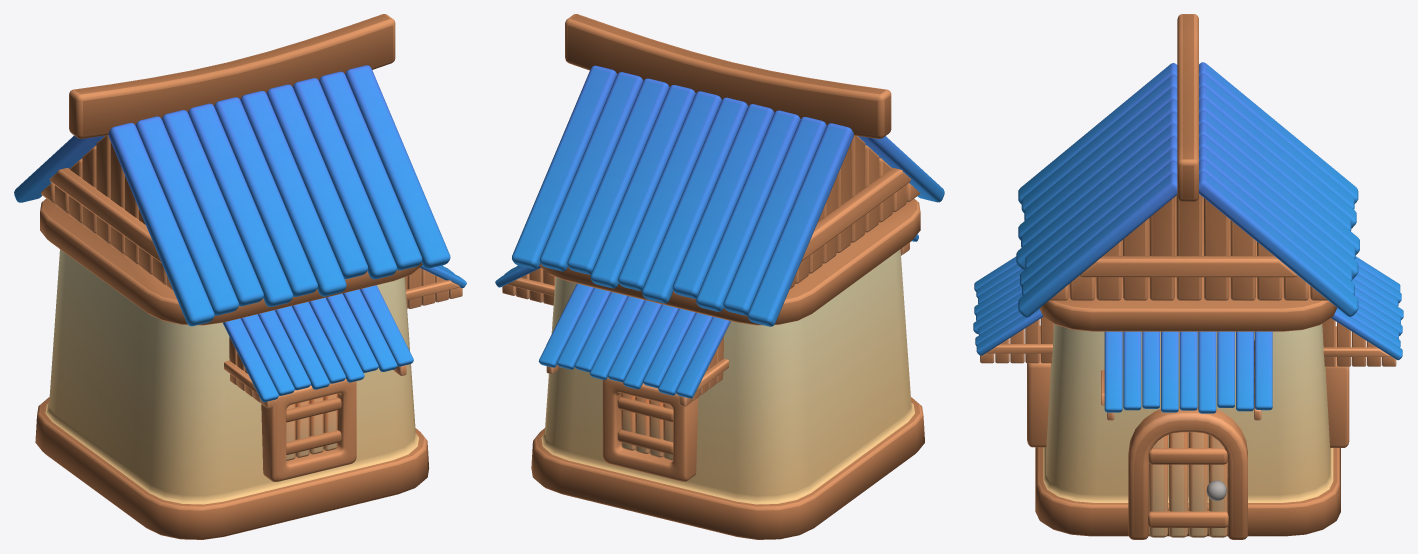
The model's file is fishing_town_house.fbx.
The picture shows the model from 3 angles, left to right: view 1: azimuth 30°, elevation 25°; view 2: azimuth 150°, elevation 25°; view 3: azimuth 270°, elevation 25°; orthographic projection. The views are drawn at different scales.
Parts seen in each view (by area): view 1: fishing_town_house; view 2: fishing_town_house; view 3: fishing_town_house.
Boxes of the visible parts, x1,y1,x2,y2 form: fishing_town_house: (14,14,466,539); fishing_town_house: (495,14,944,539); fishing_town_house: (973,14,1403,539).
Size of the model in its own units: 189 by 207 by 209.
Materials: 1 (1 with a texture image).
